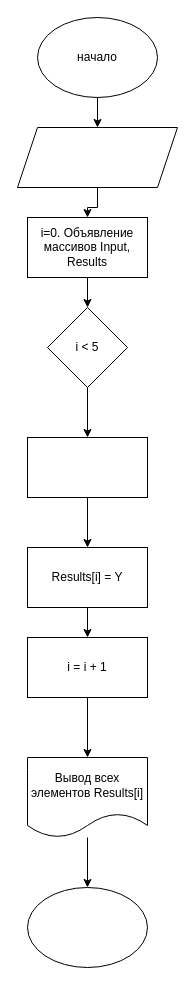
The diagram is 195 pixels wide and 985 high, and some of its shapes have lost their labels. The shapes that lost their labels are listed below. From the top down, each one's centre as x and y in pixels, then its label:
At (97,157): "Ввод числа X".
At (87,467): "Вызов PowerA3(A=X, B=Y)".
At (87,927): "конец".
